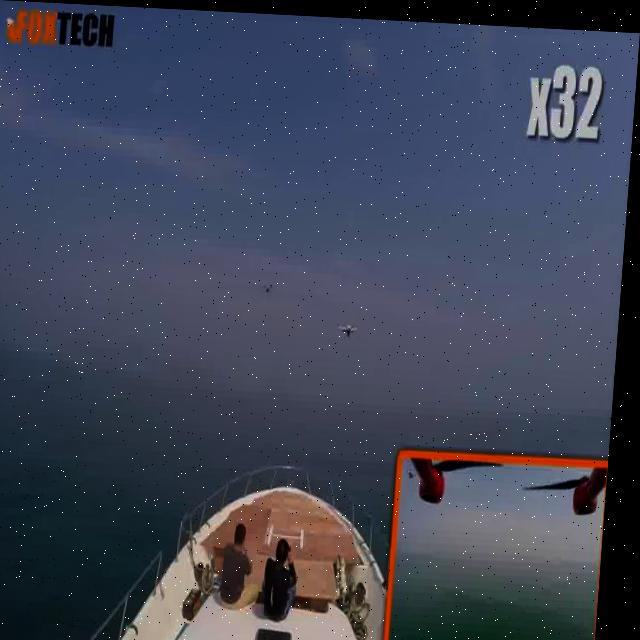drone: (339, 310, 368, 344), (263, 270, 280, 305)
